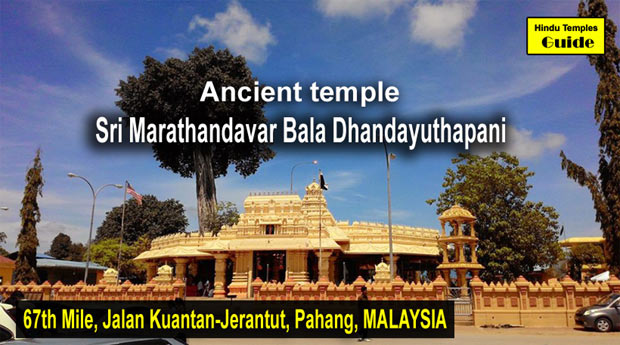Hindu Temple: (144, 178, 447, 297)
